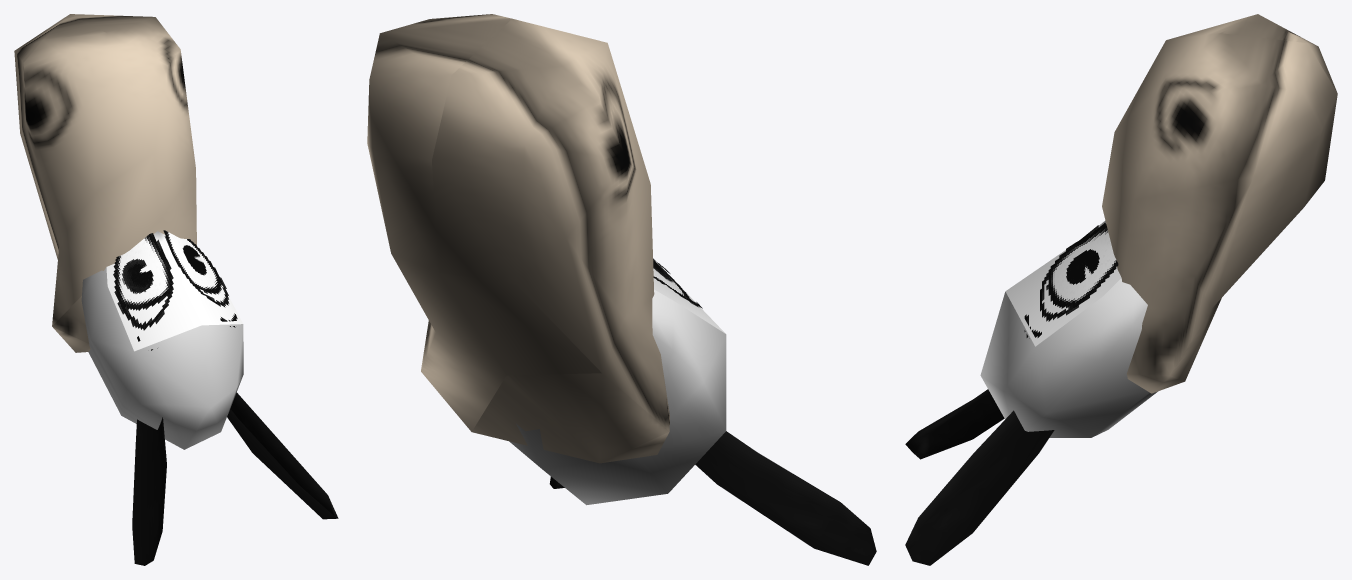
Rendered from hll_500.glb.
The picture shows the model from 3 angles, left to right: view 1: azimuth 30°, elevation 25°; view 2: azimuth 150°, elevation 25°; view 3: azimuth 270°, elevation 25°; orthographic projection. The views are drawn at different scales.
Parts seen in each view (by area): view 1: muzzle-long-neutral, head-long, ears-long, head-front-long, eyes-long, joint_pupilL_long; view 2: muzzle-long-neutral, head-long, ears-long, head-front-long; view 3: muzzle-long-neutral, head-long, ears-long, eyes-long, head-front-long, joint_pupilR_long.
Boxes of the visible parts, x1,y1,x2,y2 form: muzzle-long-neutral: (14,14,196,352); head-long: (81,267,243,449); ears-long: (132,392,338,565); head-front-long: (106,231,242,351); eyes-long: (113,230,237,350); joint_pupilL_long: (122,258,153,293); muzzle-long-neutral: (367,14,669,463); head-long: (509,289,726,505); ears-long: (549,431,876,565); head-front-long: (653,262,725,333); muzzle-long-neutral: (1102,14,1337,393); head-long: (980,278,1157,437); ears-long: (905,389,1054,565); eyes-long: (1024,223,1118,338); head-front-long: (1005,220,1121,346); joint_pupilR_long: (1066,249,1099,284).
Bounding box in the file's own units: 1.12 × 2.22 × 1.83.
Materials: 6 (6 with a texture image).
